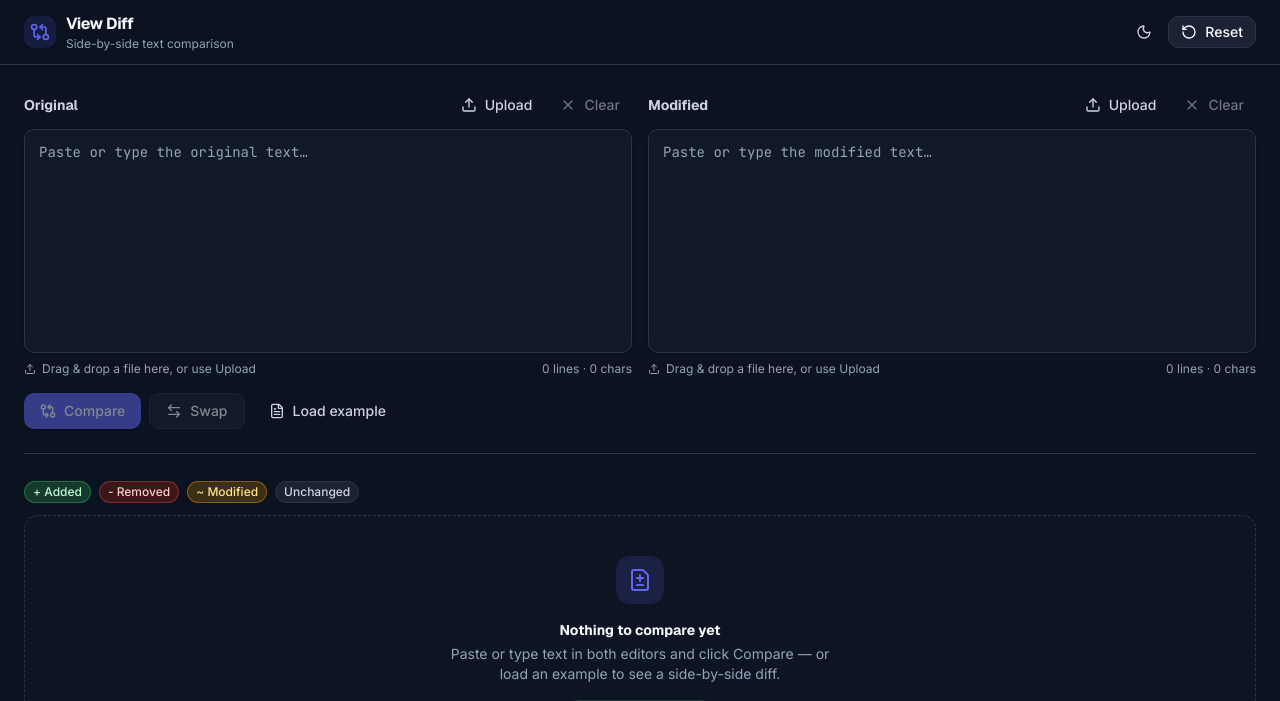
Test case: editor input actions (US2) › clears only the targeted editor
Type "AAA" into the text box labelled "Original" at (328, 241), box [24,129,632,353]
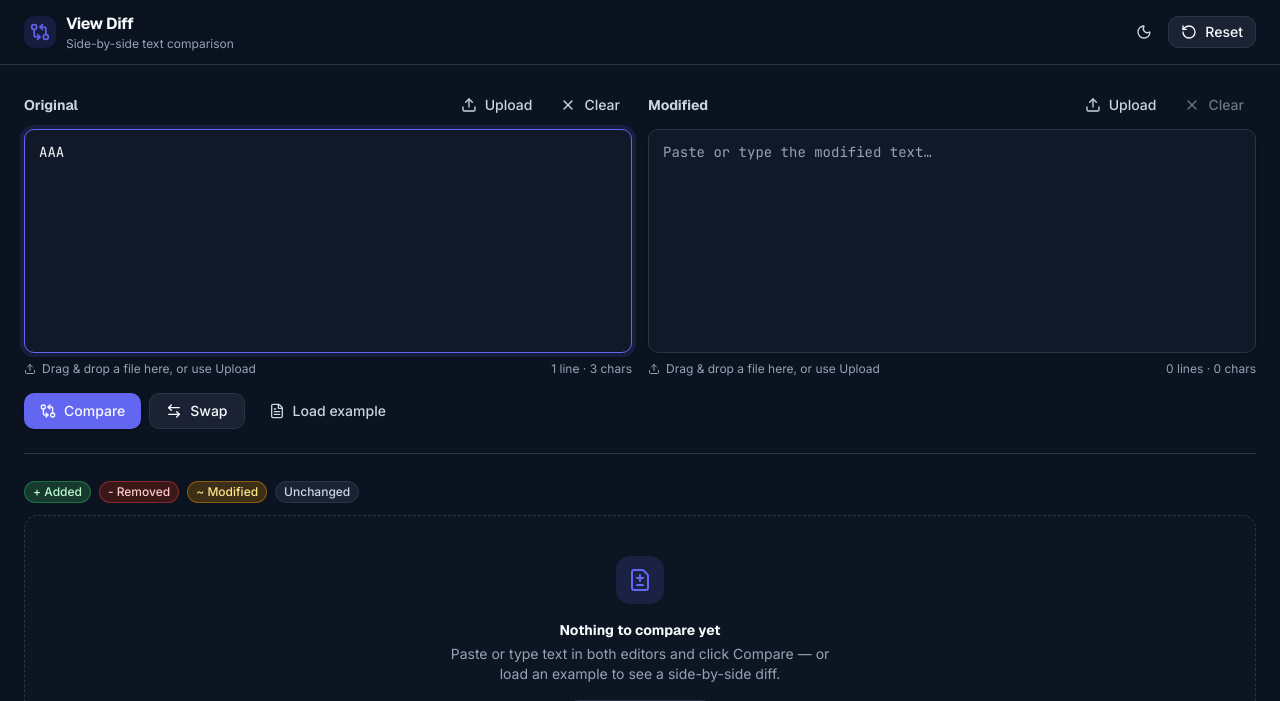
Type "BBB" into the text box labelled "Modified" at (952, 241), box [648,129,1256,353]
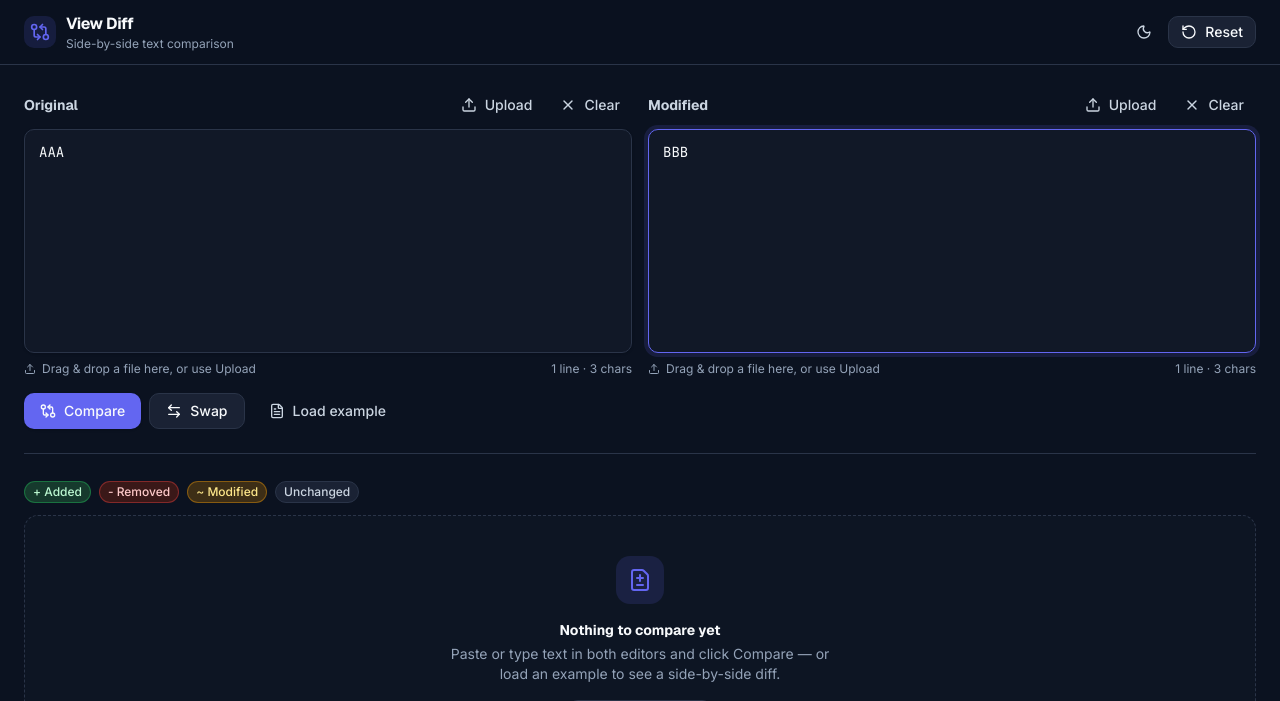
Click the button with aria-label "clear original" at (590, 105), box [548,89,632,121]
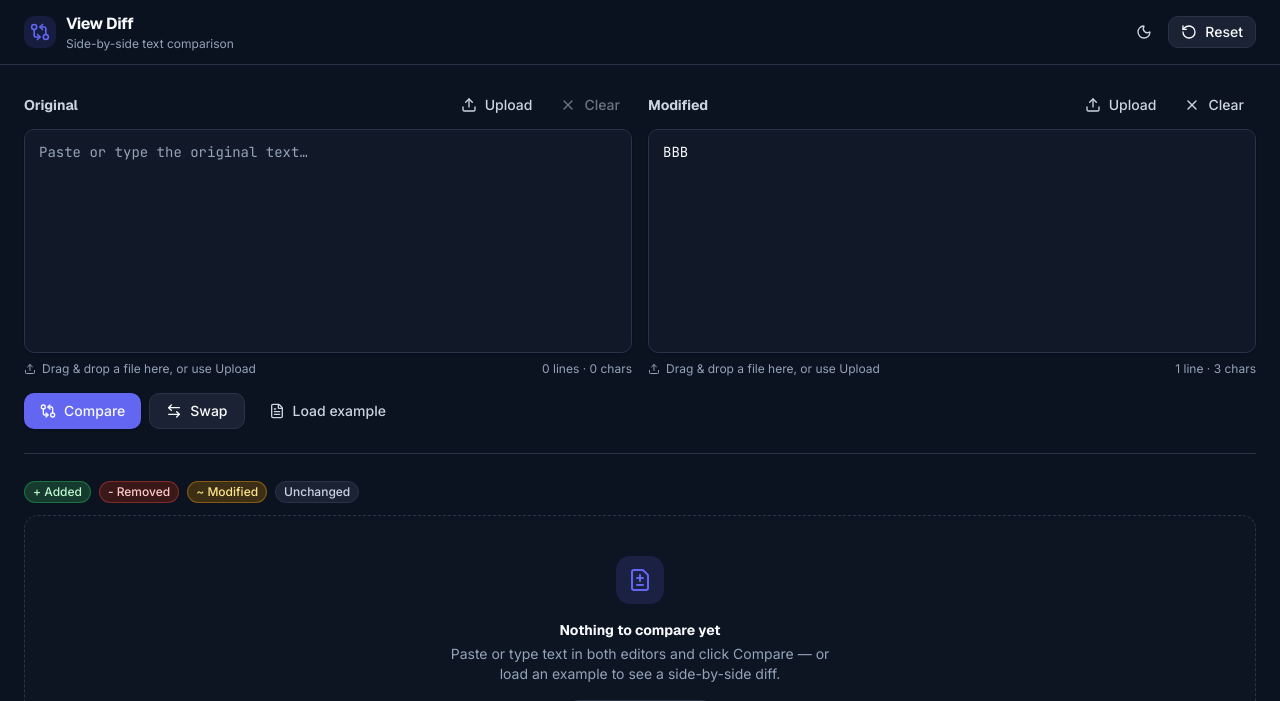
Now the text box labelled "Original" is empty, box [24,129,632,353]
